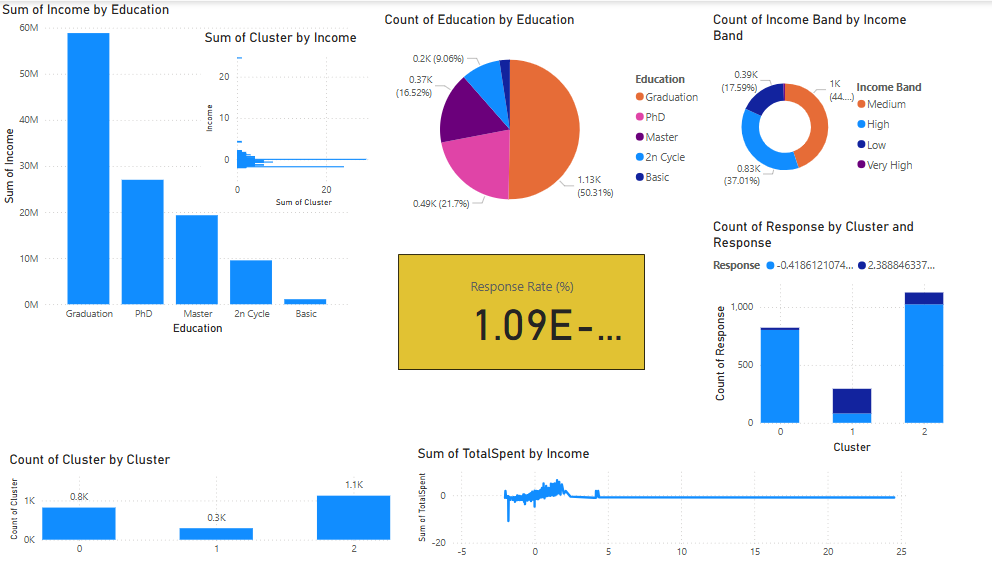

This screenshot's page, from the dashboard's own definition file:
{"tool":"powerbi","page":{"name":"Page 2","canvas":[1280,720],"ordinal":1},"visuals":[{"type":"clusteredColumnChart","fields":{"Category":["marketing_campaign.Education"],"Y":["Sum(marketing_campaign.Income)"]},"box":[0,0,447.9,425.2],"z":0},{"type":"clusteredColumnChart","fields":{"Category":["customer_segments.Cluster"],"Y":["CountNonNull(customer_segments.Cluster)"]},"box":[9.4,566.9,489.5,141.7],"z":1},{"type":"pieChart","fields":{"Y":["CountNonNull(customer_segments.Education)"],"Category":["customer_segments.Education"]},"box":[481.9,13.2,413.9,277.8],"z":2},{"type":"lineChart","fields":{"Y":["Sum(customer_segments.TotalSpent)"],"Category":["customer_segments.Income"]},"box":[523.5,559.4,629.3,153.1],"z":3},{"type":"clusteredBarChart","fields":{"Y":["Sum(customer_segments.Cluster)"],"Category":["customer_segments.Income"]},"box":[255.1,35.9,226.8,228.7],"z":4},{"type":"columnChart","fields":{"Category":["customer_segments.Cluster"],"Y":["CountNonNull(customer_segments.Response)"],"Series":["customer_segments.Response"]},"box":[895.8,274,300.5,300.5],"z":5},{"type":"cardVisual","fields":{"Data":["customer_segments.Response Rate (%)"]},"box":[498.9,313.7,321.3,156.9],"z":6},{"type":"donutChart","fields":{"Category":["marketing_campaign.Income Band"],"Y":["CountNonNull(marketing_campaign.Income Band)"]},"box":[895.8,13.2,277.8,251.3],"z":7}]}

Visuals, with their boxes in screenshot pixels (x1, y1, x2, y2), scaled from the page's 1280x720 canvas onto the 992x566 screenshot:
clusteredColumnChart - marketing_campaign.Education x Sum(marketing_campaign.Income): rect(0, 0, 347, 334)
clusteredColumnChart - customer_segments.Cluster x CountNonNull(customer_segments.Cluster): rect(7, 446, 387, 557)
pieChart - CountNonNull(customer_segments.Education) x customer_segments.Education: rect(373, 10, 694, 229)
lineChart - Sum(customer_segments.TotalSpent) x customer_segments.Income: rect(406, 440, 893, 560)
clusteredBarChart - Sum(customer_segments.Cluster) x customer_segments.Income: rect(198, 28, 373, 208)
columnChart - customer_segments.Cluster x CountNonNull(customer_segments.Response): rect(694, 215, 927, 452)
cardVisual - customer_segments.Response Rate (%): rect(387, 247, 636, 370)
donutChart - marketing_campaign.Income Band x CountNonNull(marketing_campaign.Income Band): rect(694, 10, 910, 208)
